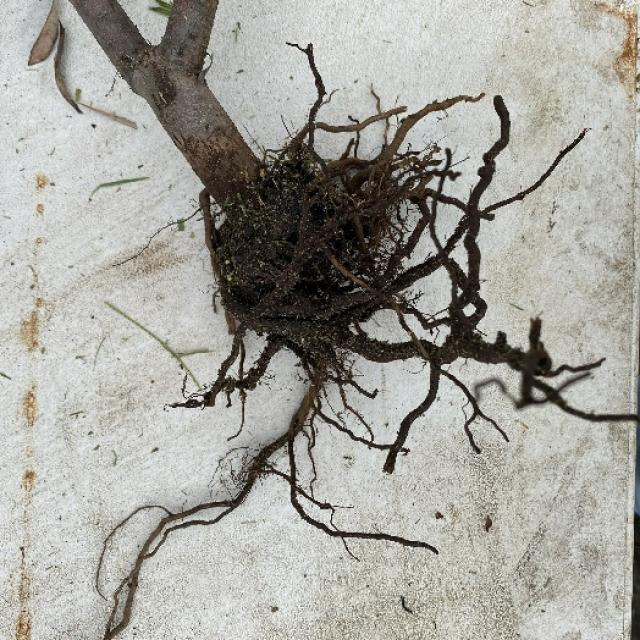organik: (72, 0, 537, 553)
